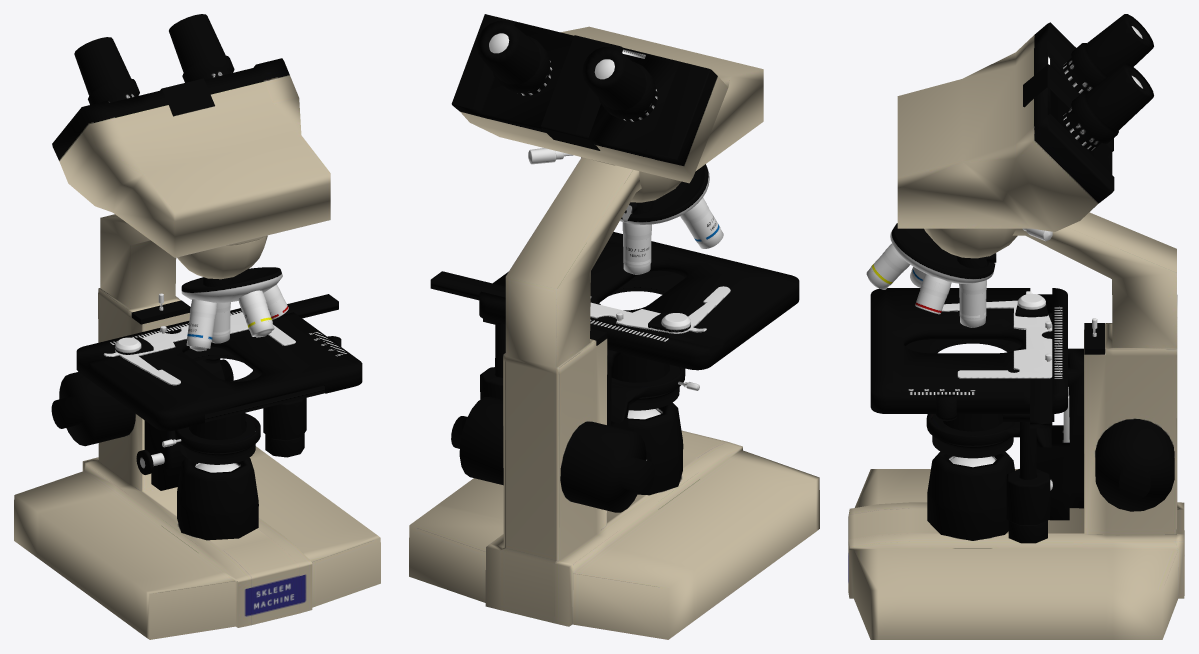
File: 6_microscope.glb
The picture shows the model from 3 angles, left to right: view 1: azimuth 30°, elevation 25°; view 2: azimuth 150°, elevation 25°; view 3: azimuth 270°, elevation 25°; orthographic projection. The views are drawn at different scales.
Visible parts, largest first — view 1: 01_LP_UV_full.003; view 2: 01_LP_UV_full.003; view 3: 01_LP_UV_full.003.
Boxes of the visible parts, bbox=[...] form: 01_LP_UV_full.003: bbox=[14, 14, 380, 639]; 01_LP_UV_full.003: bbox=[409, 14, 819, 639]; 01_LP_UV_full.003: bbox=[848, 14, 1184, 639].
Size of the model in its own units: 1.16 by 2.1 by 1.19.
Materials: 1 (1 with a texture image).
